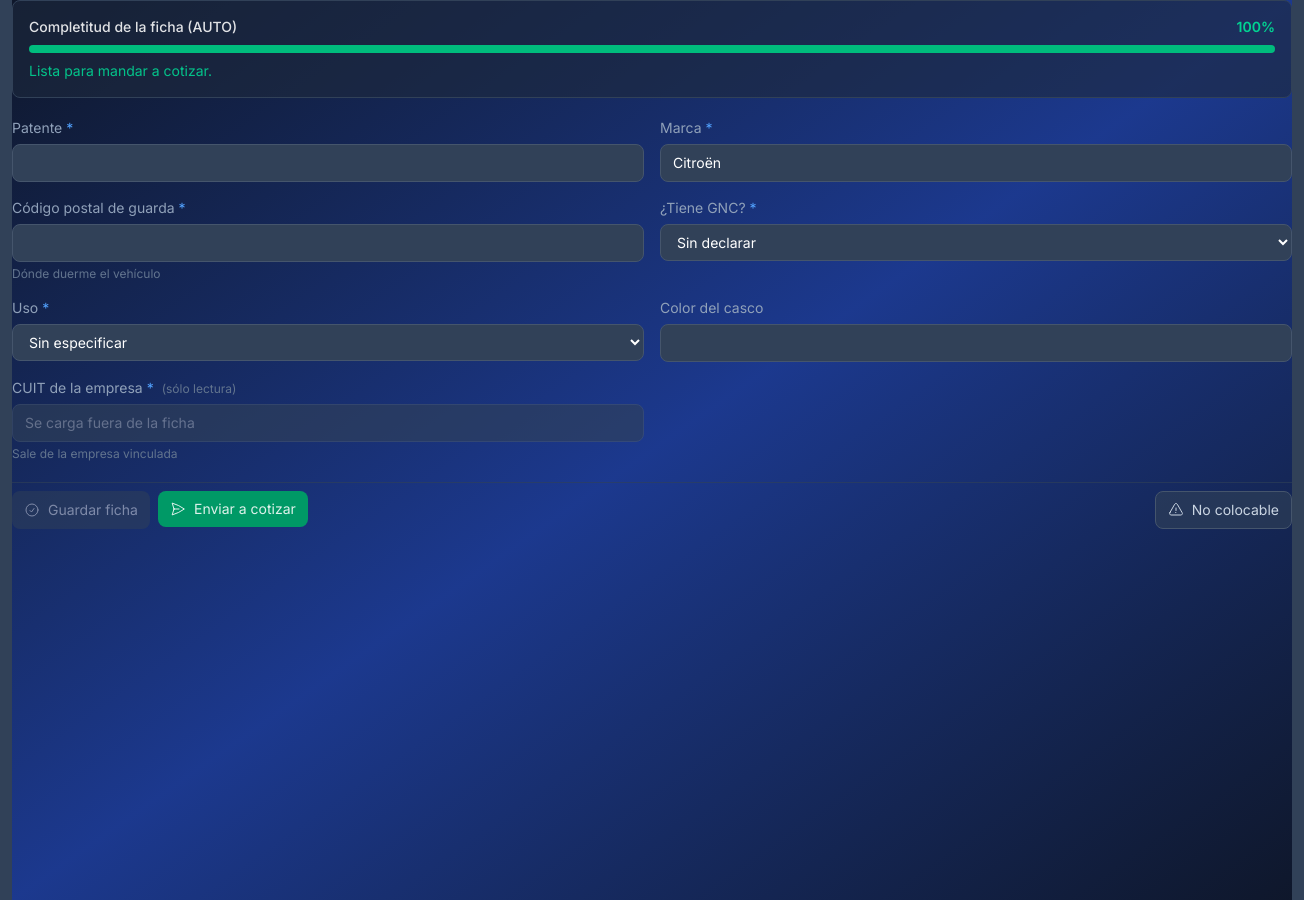
C-17 · la pestaña Riesgo › con la ficha al 100% el envío sale y la respuesta dice a qué estado pasó
expect the text "100%" is shown: met, box [1236,17,1275,37]
Click the button "Enviar a cotizar".
click(233, 509)  # box [158,491,308,527]
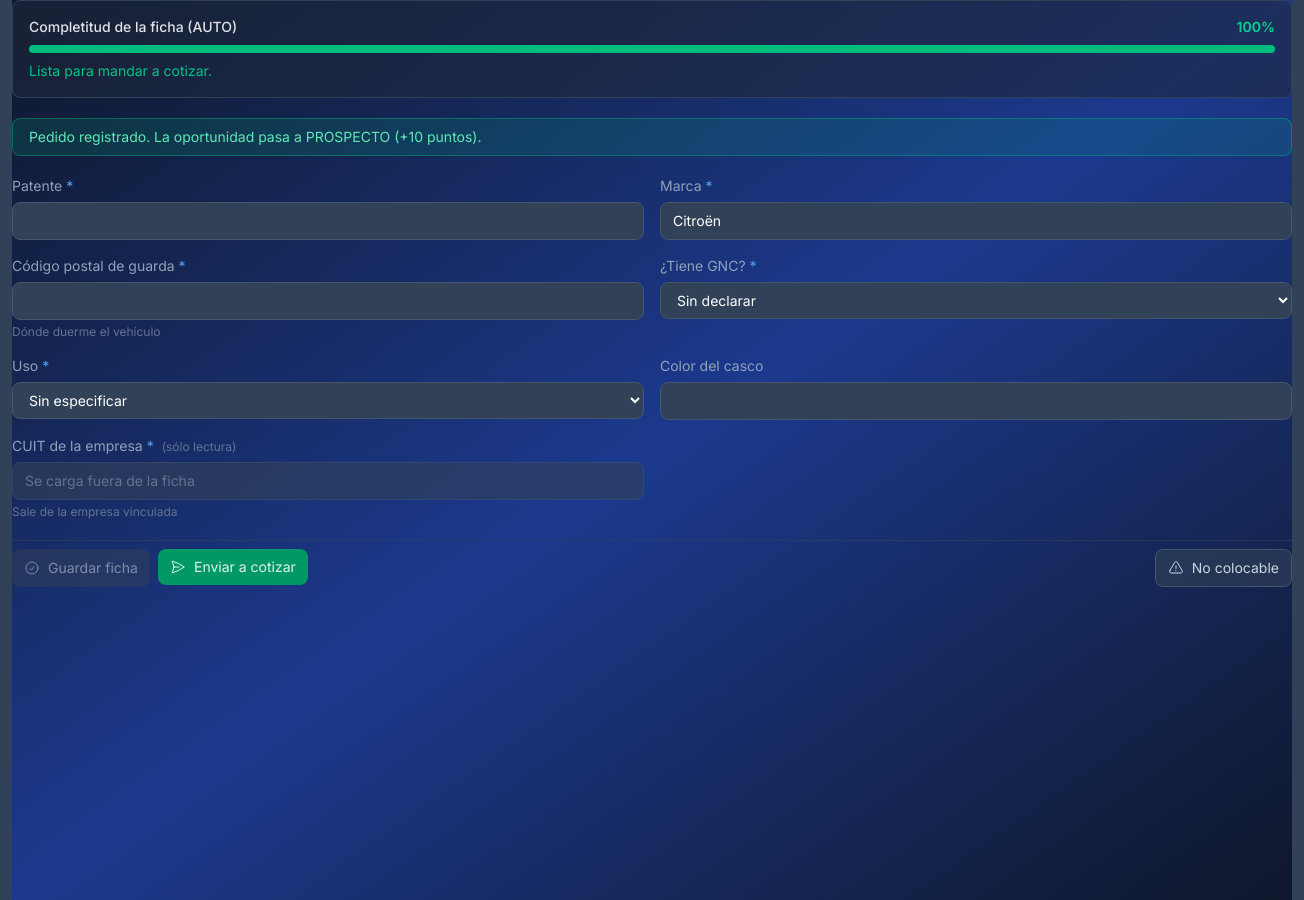
expect the text "pasa a PROSPECTO" is shown: met, box [29,128,482,145]
